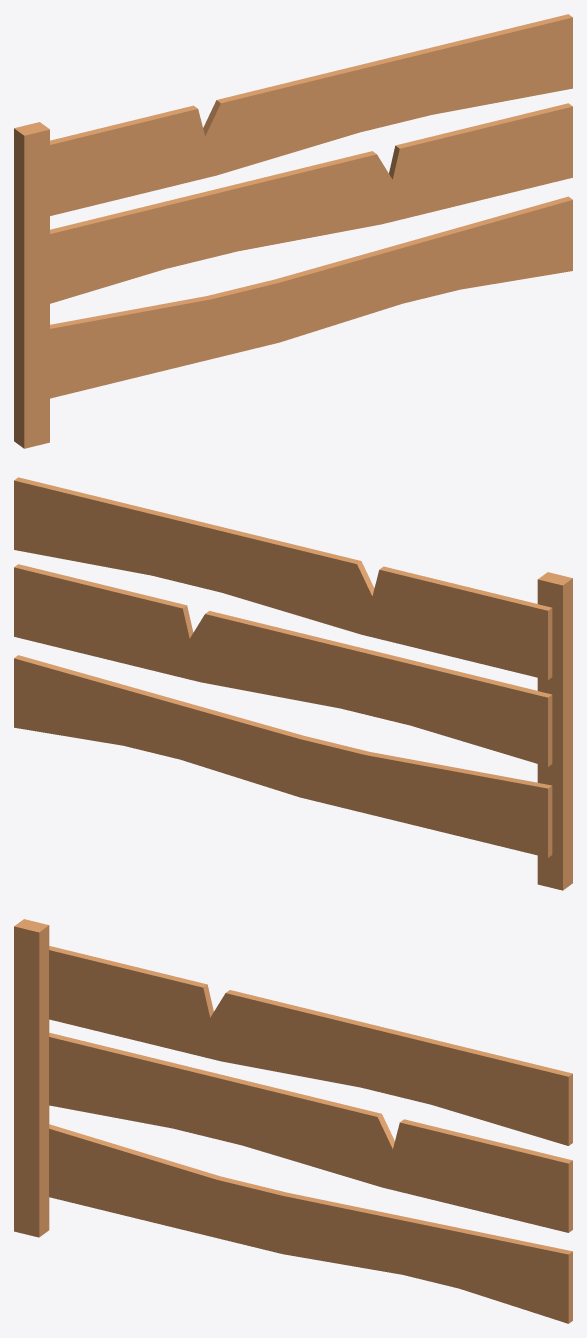
Rendered from fench03.fbx.
3 views of the same model, one above another, from view 1: azimuth 30°, elevation 25°; view 2: azimuth 150°, elevation 25°; view 3: azimuth 330°, elevation 25° (orthographic). The views are drawn at different scales.
Parts seen in each view (by area): view 1: fench03; view 2: fench03; view 3: fench03.
Boxes of the visible parts, x1,y1,x2,y2 form: fench03: (14, 14, 572, 448); fench03: (14, 477, 572, 890); fench03: (14, 919, 572, 1323).
Bounding box in the file's own units: 6.55 × 3.51 × 0.2982.
